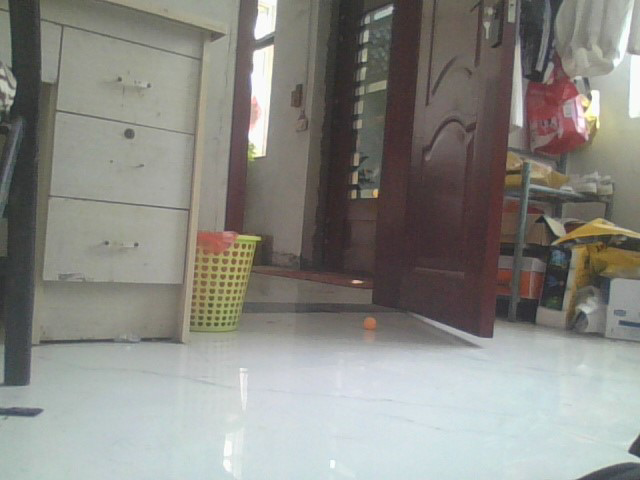ball: (362, 315, 377, 331)
